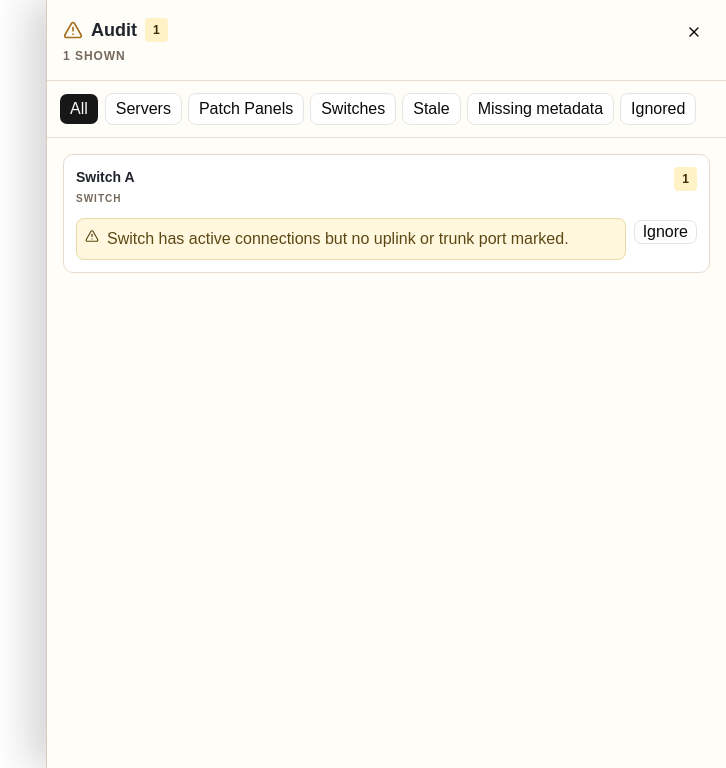
Scenario: AuditDrawer › ignores and unignores warnings without selecting an item or closing the drawer
Click the button "Ignore".
click(665, 232)  # box [634, 220, 697, 244]
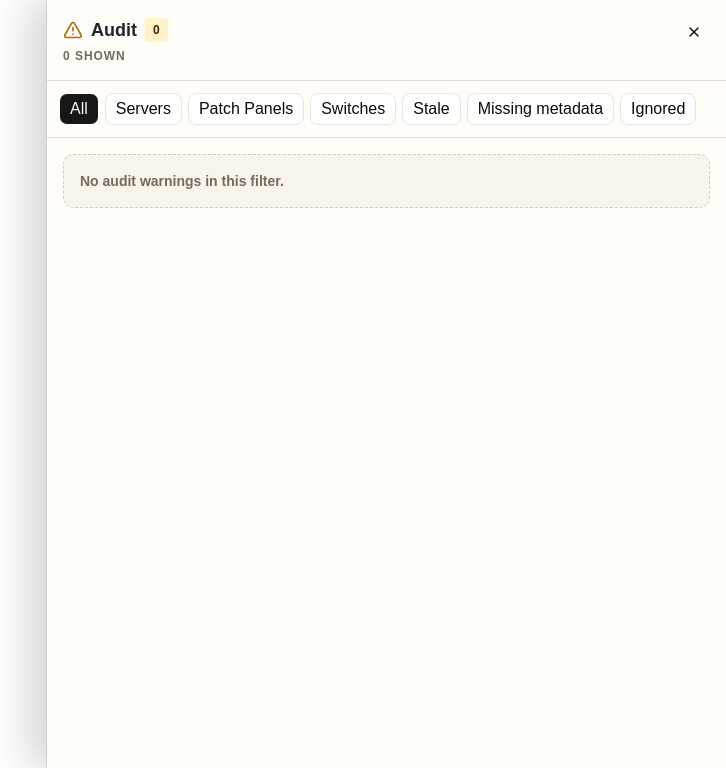
Check: the button "Switch has active connections but no uplink or trunk port marked." is gone
Click the button "Ignored".
click(658, 109)  # box [620, 93, 696, 125]
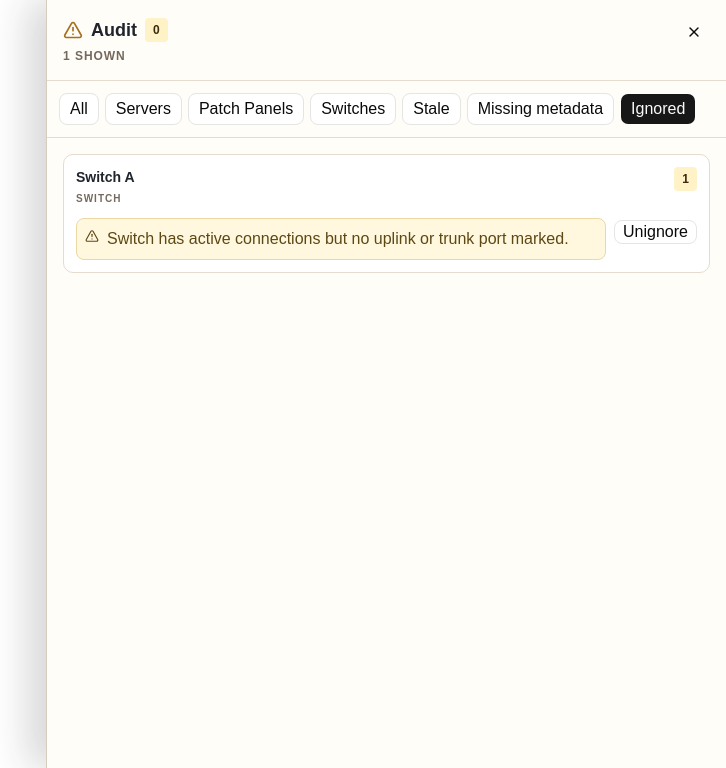
Click the button "Unignore".
click(656, 232)  # box [614, 220, 697, 244]
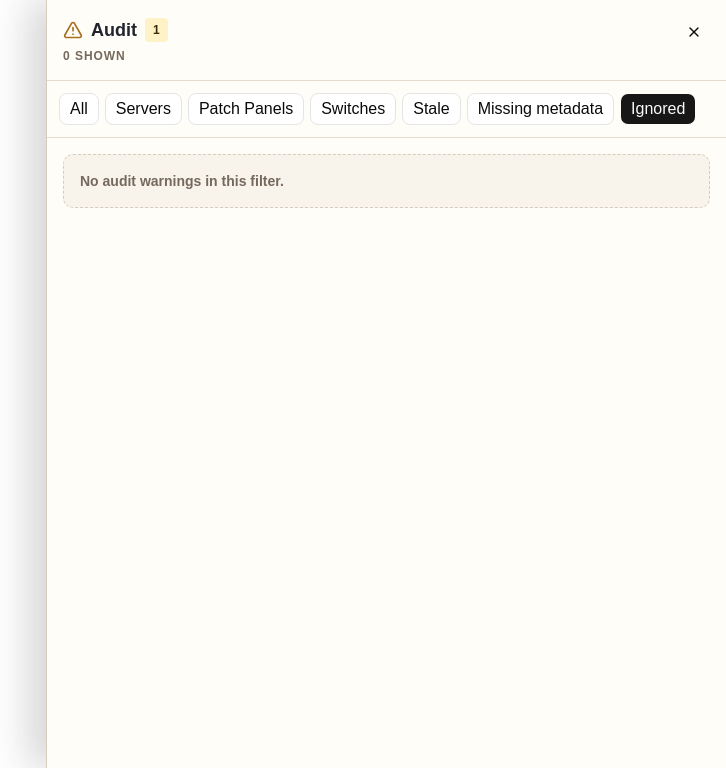
Check: the button "Switch has active connections but no uplink or trunk port marked." is gone
